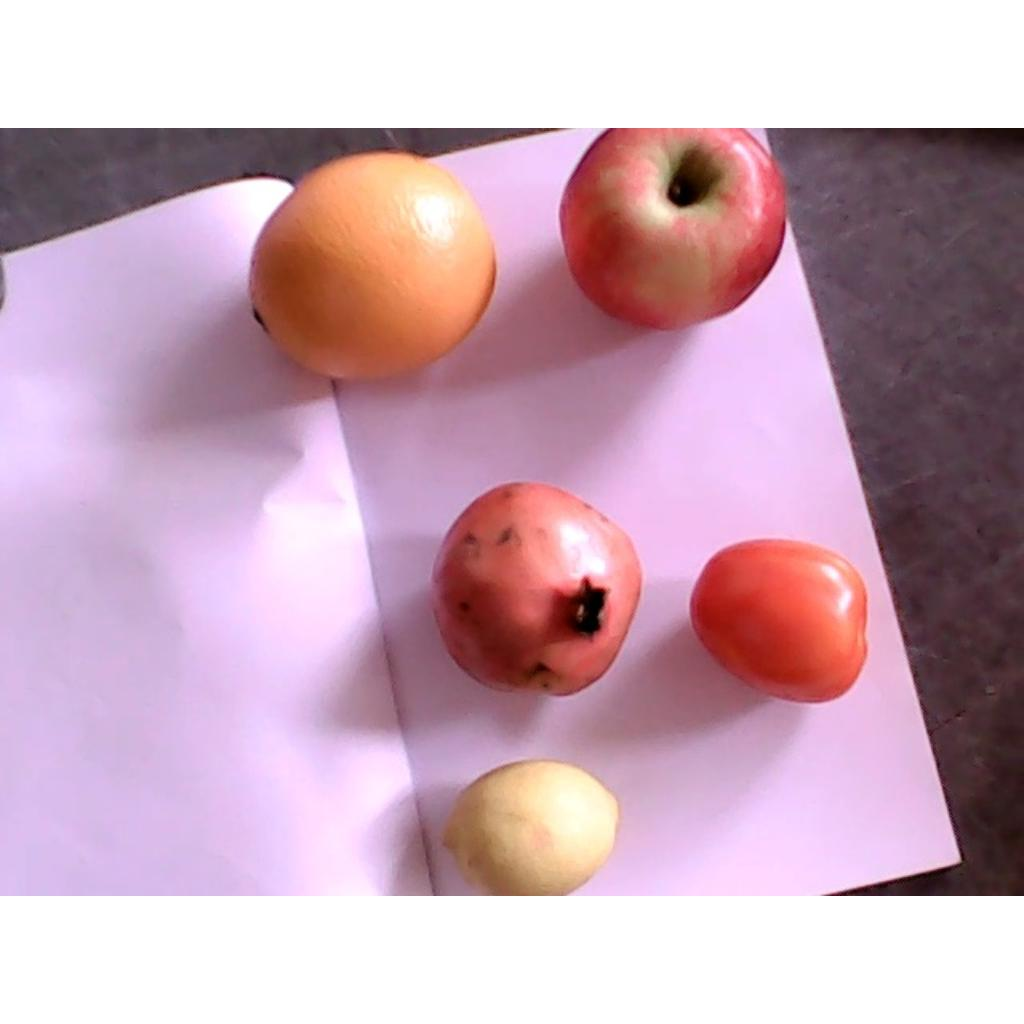apple: (560, 128, 787, 329)
lemon: (436, 759, 620, 894)
orange: (246, 150, 497, 377)
pomegranate: (429, 481, 644, 698)
tomato: (689, 538, 868, 704)
